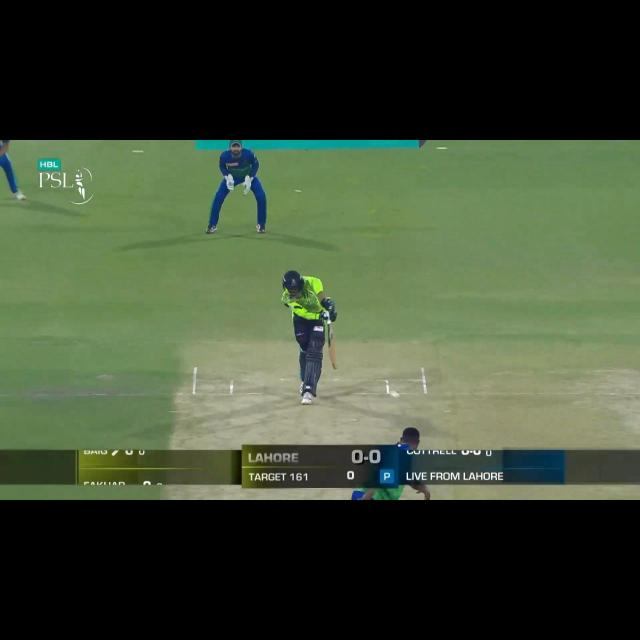bat: (326, 322, 341, 370)
toe: (332, 362, 340, 369)
